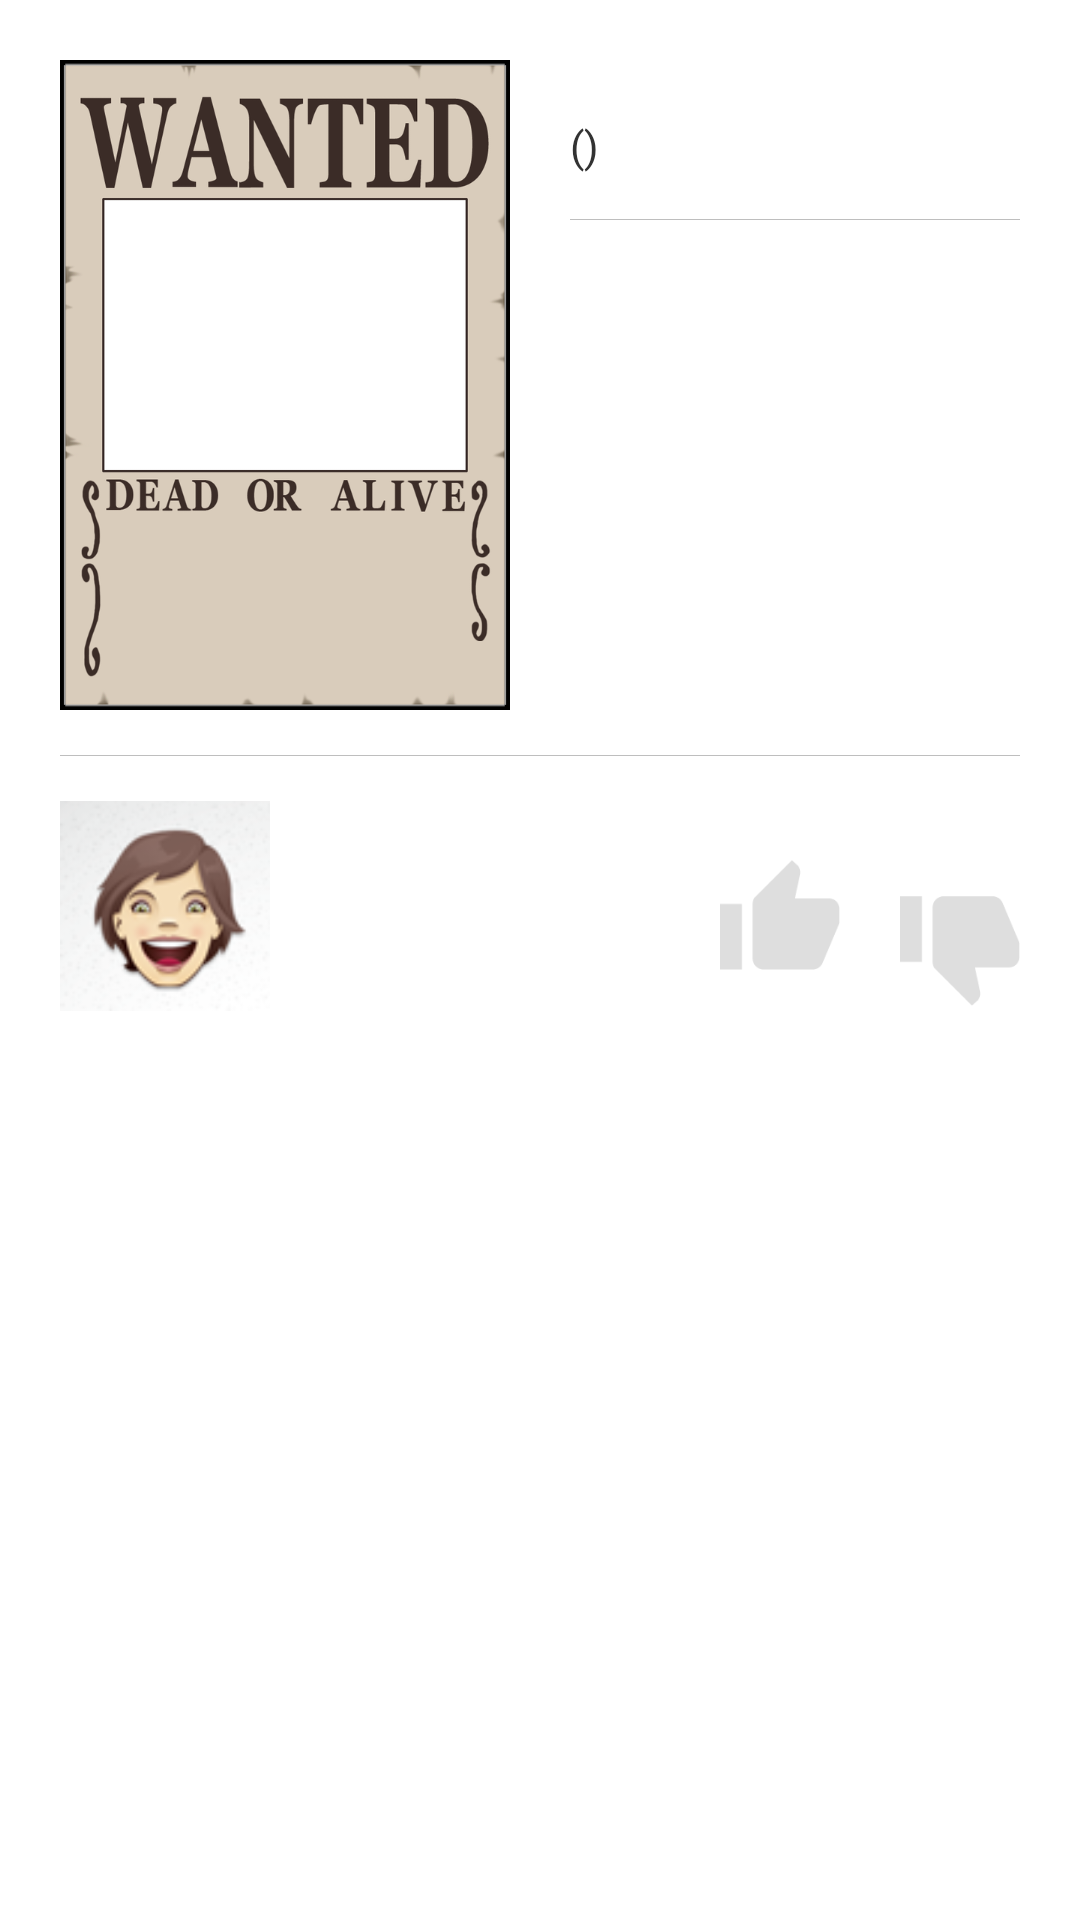

Icon click points for this 1080*1920 phone screenshot, format point (x, y):
dislike: point (959, 950)
like: point (779, 915)
